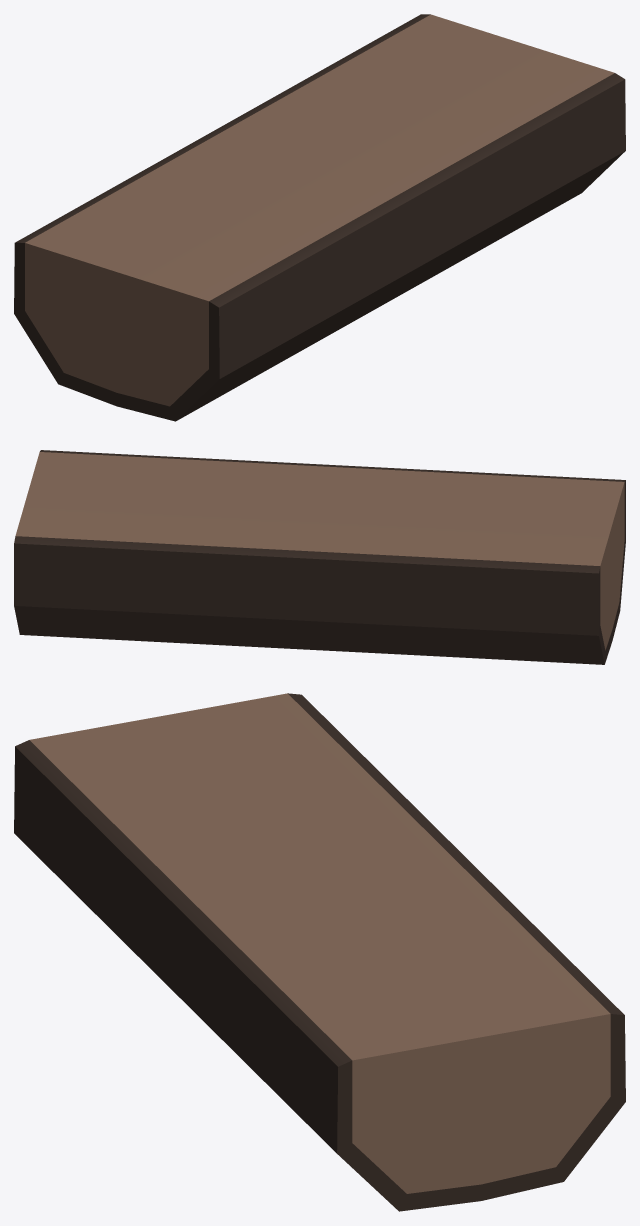
Rendered from Log Seat.fbx.
3 views of the same model, one above another, from view 1: azimuth 30°, elevation 25°; view 2: azimuth 150°, elevation 25°; view 3: azimuth 270°, elevation 25° (orthographic). The views are drawn at different scales.
Visible parts, largest first — view 1: log_seat; view 2: log_seat; view 3: log_seat.
Part boxes in pixels (bbox=[...]): log_seat: bbox=[14, 14, 625, 421]; log_seat: bbox=[14, 450, 625, 664]; log_seat: bbox=[14, 693, 625, 1211].
Size of the model in its own units: 4.16 by 0.853 by 2.89.
